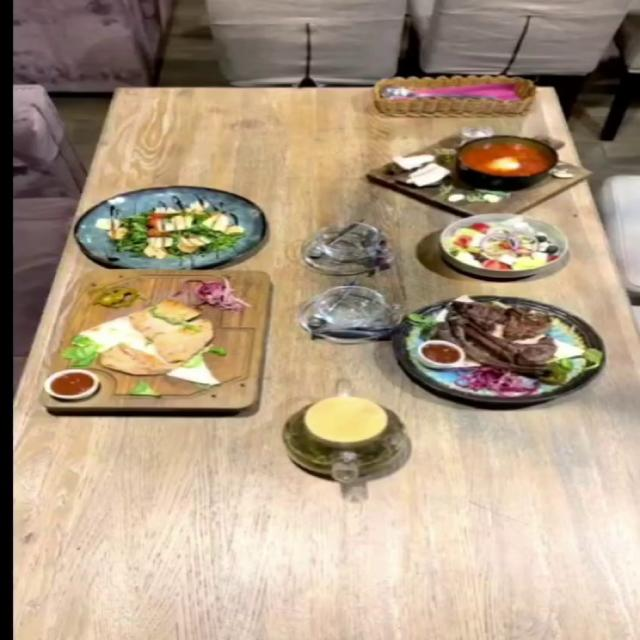meat: (389, 295, 607, 404)
salat: (72, 185, 265, 268), (440, 212, 571, 278)
soup: (388, 132, 573, 205)
tea: (280, 396, 410, 482)
